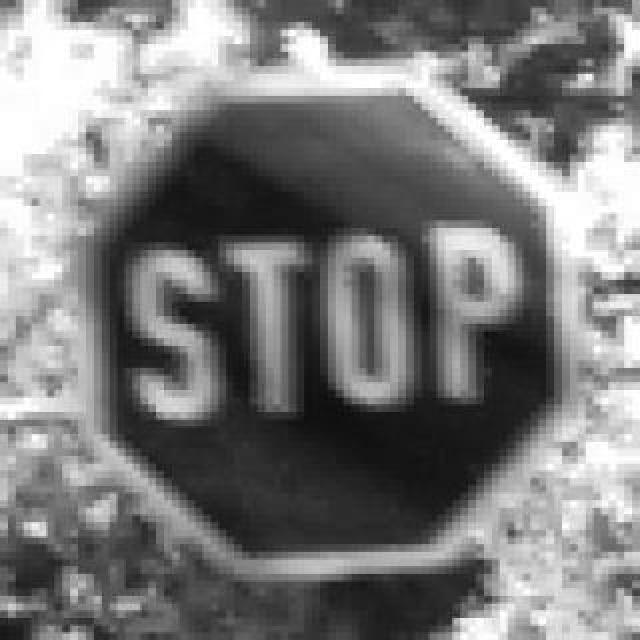stop: (78, 52, 570, 580)
